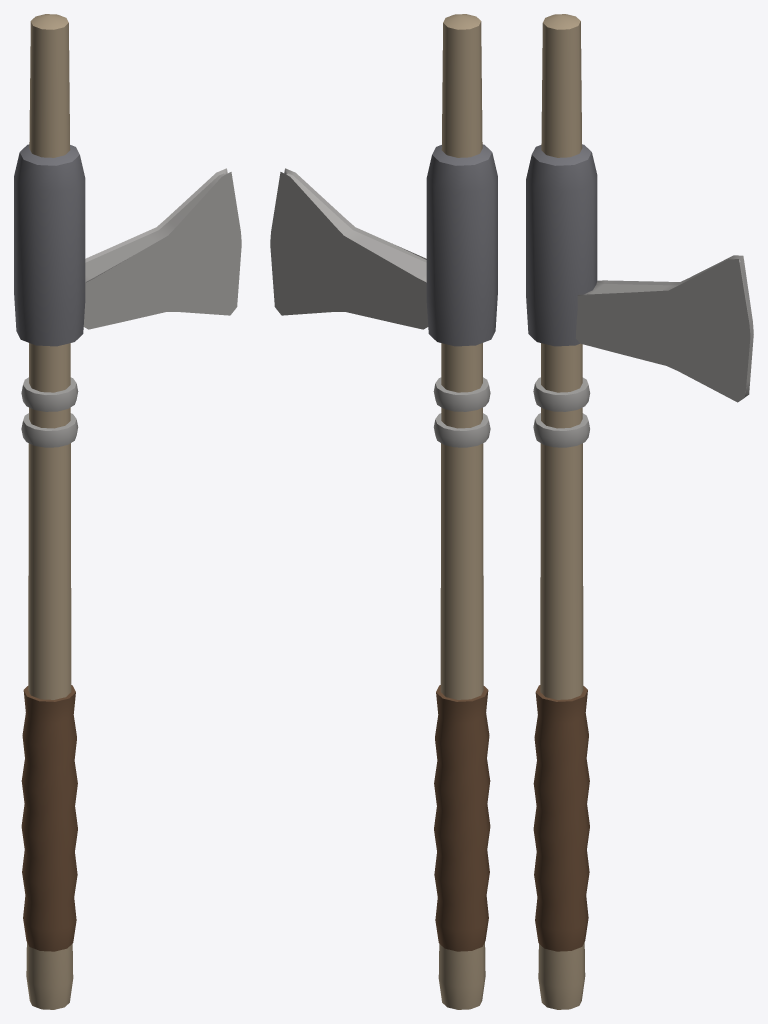
File: woodcutter_hatchet.glb
3 renders of one model, left to right at view 1: azimuth 30°, elevation 25°; view 2: azimuth 150°, elevation 25°; view 3: azimuth 330°, elevation 25°, orthographic.
Parts seen in each view (by area): view 1: woodcutter_hatchet; view 2: woodcutter_hatchet; view 3: woodcutter_hatchet.
Boxes of the visible parts, x1,y1,x2,y2 form: woodcutter_hatchet: (14,14,241,1009); woodcutter_hatchet: (270,14,497,1009); woodcutter_hatchet: (526,14,753,1009).
Size of the model in its own units: 0.1939 by 0.825 by 0.0517.
